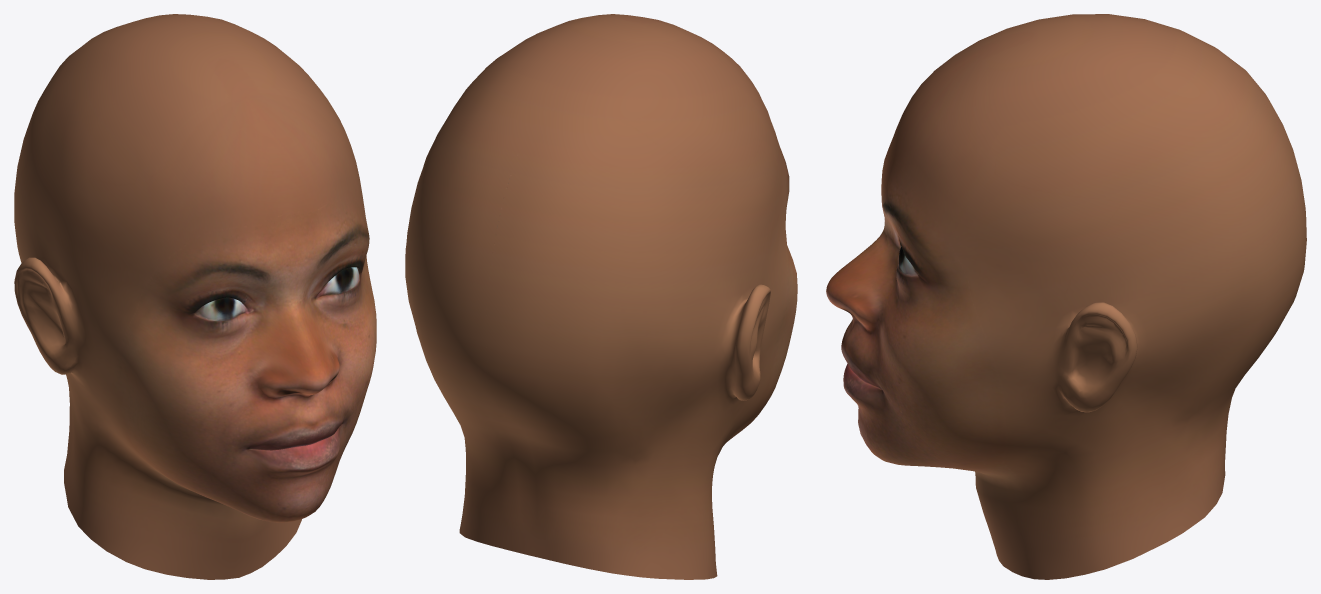
File: v332_obj_ModifierLookUp.obj
3 renders of one model, left to right at view 1: azimuth 30°, elevation 25°; view 2: azimuth 150°, elevation 25°; view 3: azimuth 270°, elevation 25°, orthographic. The views are drawn at different scales.
Parts seen in each view (by area): view 1: HeadHires; view 2: HeadHires; view 3: HeadHires.
Part boxes in pixels (left/top/right/bottom): HeadHires: left=14, top=14, right=376, bottom=579; HeadHires: left=405, top=14, right=797, bottom=579; HeadHires: left=826, top=14, right=1306, bottom=579.
Size of the model in its own units: 187 by 282 by 233.
